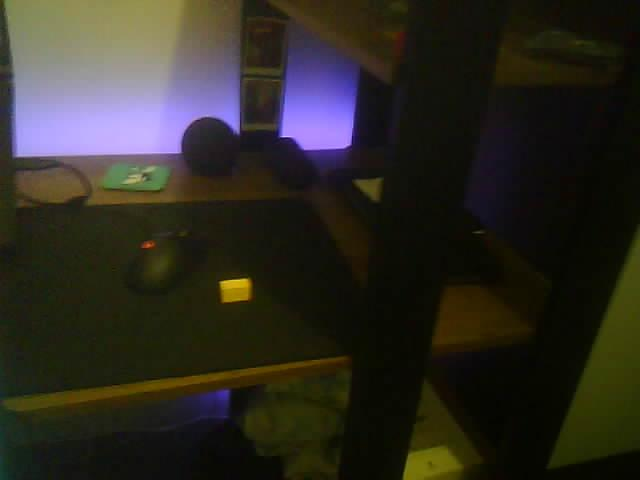lego: (217, 278, 254, 304)
